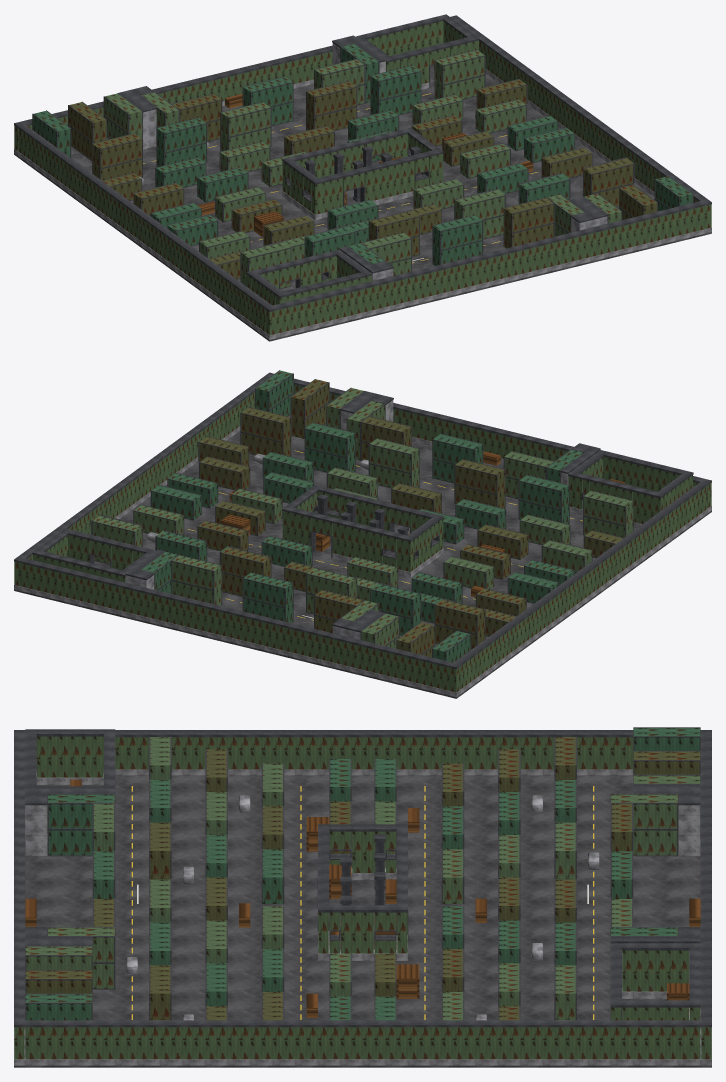
Rendered from map_harbor.glb.
3 views of the same model, one above another, from view 1: azimuth 30°, elevation 25°; view 2: azimuth 150°, elevation 25°; view 3: azimuth 270°, elevation 25° (orthographic). The views are drawn at different scales.
Visible parts, largest first — view 1: map; view 2: map; view 3: map.
Boxes of the visible parts, x1=… form: map: x1=14, y1=14, x2=711, y2=341; map: x1=14, y1=370, x2=711, y2=698; map: x1=14, y1=727, x2=711, y2=1067.
Size of the model in its own units: 62 by 5.4 by 62.
11 materials, 9 textured.
